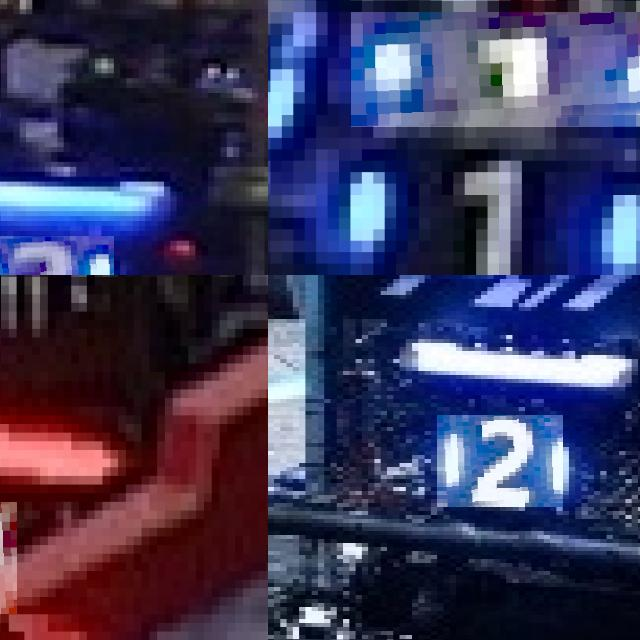B1: (338, 143, 640, 269), (350, 12, 640, 126)
B2: (437, 415, 563, 507), (0, 235, 113, 275)
